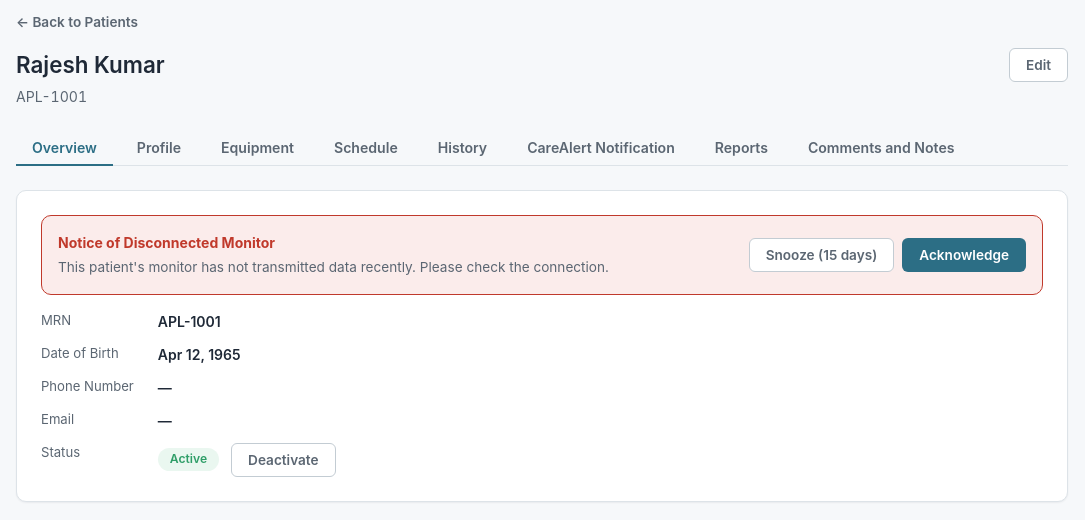
it: PatientDetailComponent › renders the Comments and Notes tab with the existing notes list
What coordinates should you click on to do the following:
click the button with class "tab" showing "Comments and Notes"
I would click on:
 (881, 149)
Its box is [792,131,970,166].
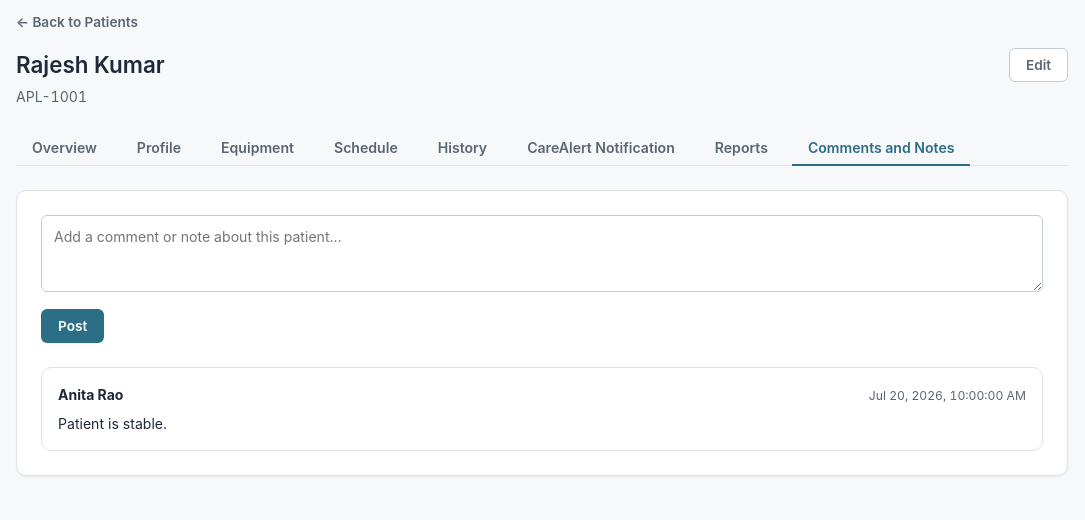
Check: the number of list items with class "note-item" is 1, box [41,367,1043,451]
Check: the text "Anita Rao" is shown, box [58,384,124,405]
Check: the text "Patient is stable." is shown, box [58,415,167,432]
